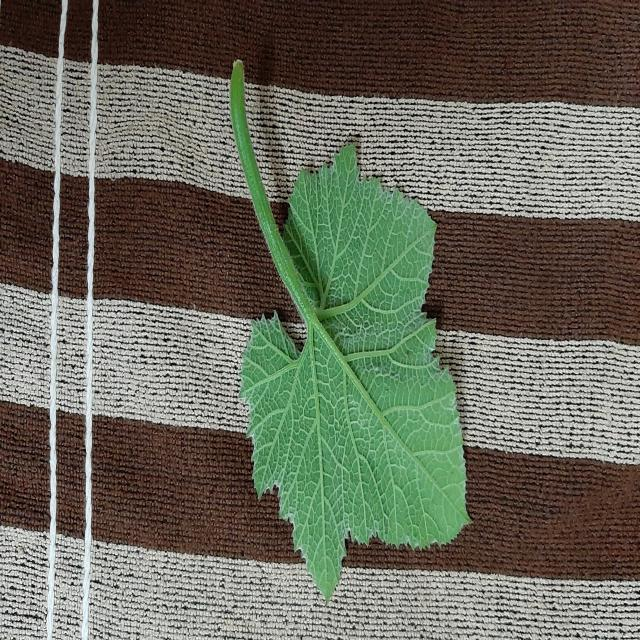pumpkin: (230, 60, 469, 599)
